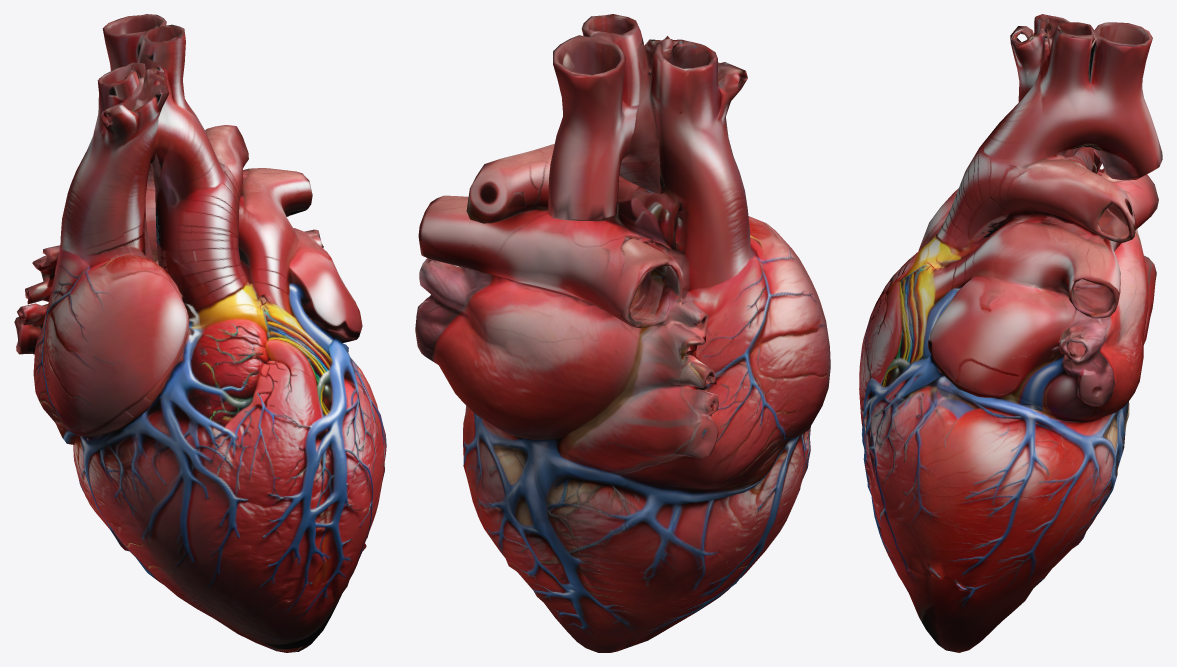
The model's file is heart.glb.
The picture shows the model from 3 angles, left to right: view 1: azimuth 30°, elevation 25°; view 2: azimuth 150°, elevation 25°; view 3: azimuth 270°, elevation 25°; orthographic projection. The views are drawn at different scales.
Bounding box in the file's own units: 1.05 × 2 × 0.9332.
1 material, 1 textured.
